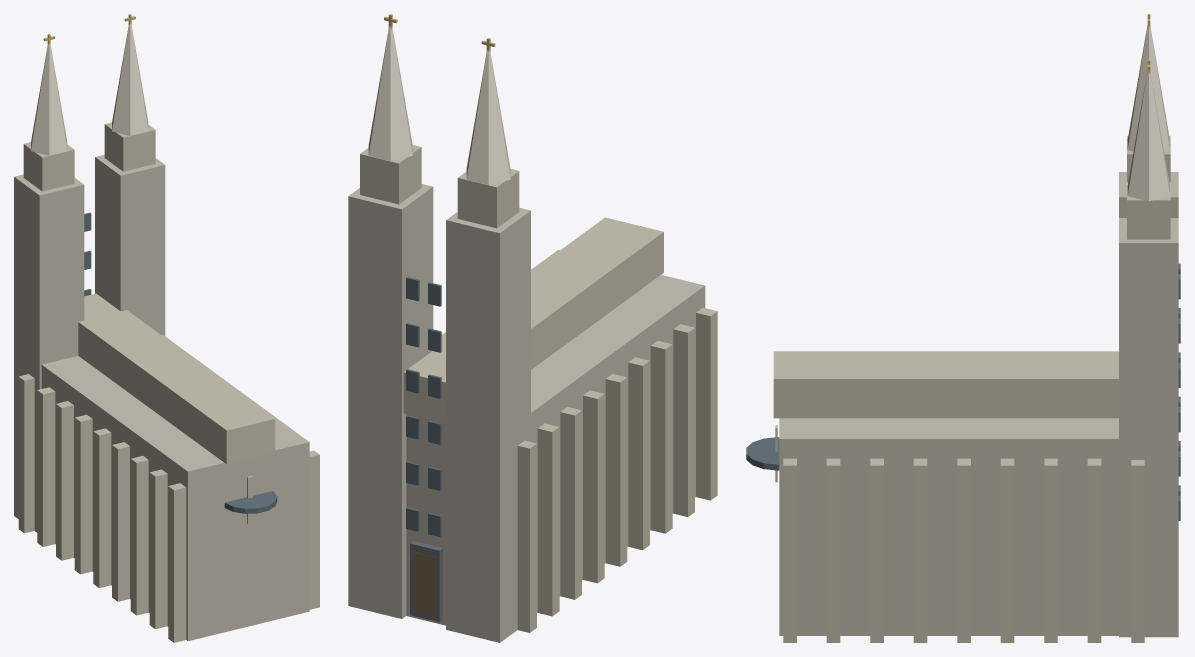
The model's file is cathedral.glb.
3 renders of one model, left to right at view 1: azimuth 30°, elevation 25°; view 2: azimuth 150°, elevation 25°; view 3: azimuth 270°, elevation 25°, orthographic. The views are drawn at different scales.
Visible parts, largest first — view 1: Mesh; view 2: Mesh; view 3: Mesh.
Part boxes in pixels (left/top/right/bottom): Mesh: left=14, top=14, right=319, bottom=642; Mesh: left=348, top=14, right=717, bottom=642; Mesh: left=746, top=14, right=1180, bottom=642.
Bounding box in the file's own units: 36 × 114 × 79.9.
